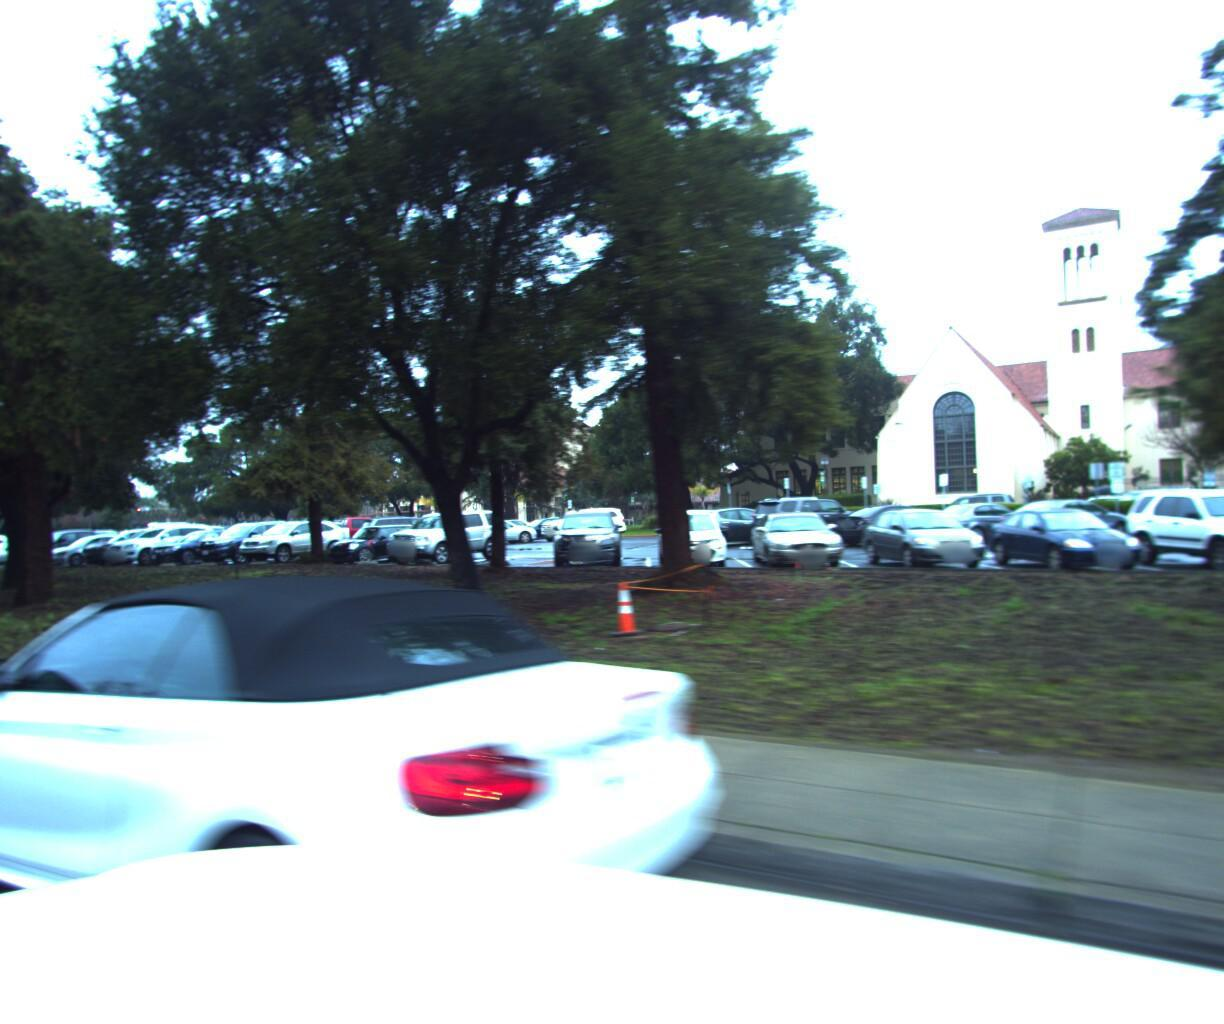car: (0, 561, 729, 1024)
